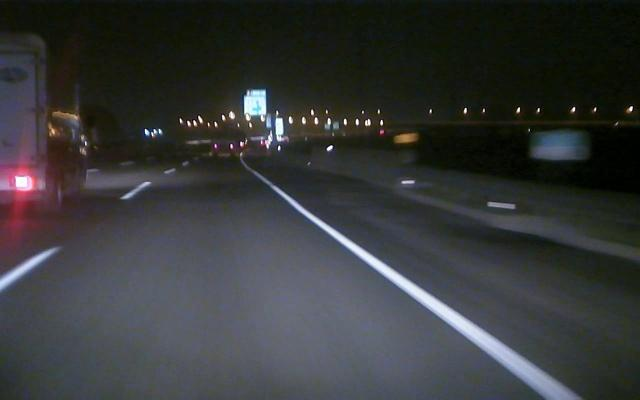lane: (259, 178, 584, 398), (3, 178, 154, 289)
